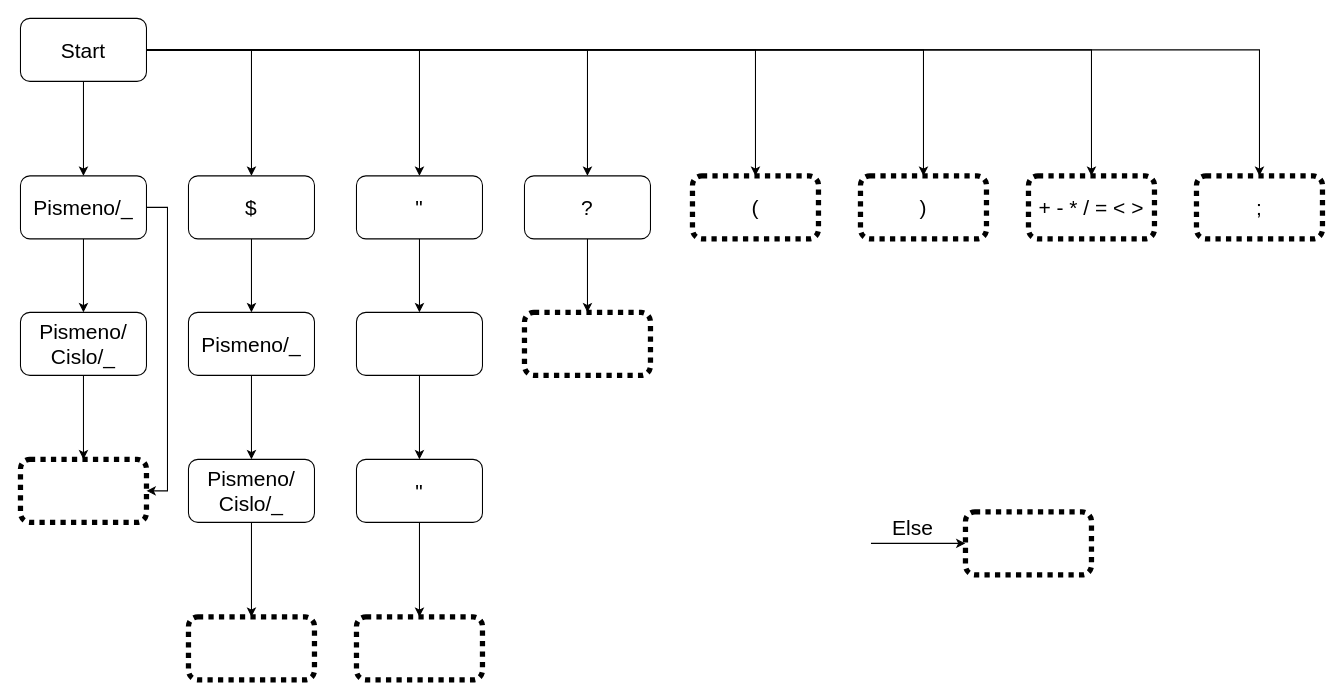
The diagram is 1343 pixels wide and 700 high, and some of its shapes have lost their labels. Here are the shapes that lost their labels. From the top down, the centre of each, then its label:
the point at 418,343: >31(ascii)/ escape seq
the point at 587,343: type
the point at 83,490: ID Funkcie
the point at 1028,543: Error
the point at 251,648: ID Premennej
the point at 419,648: String
